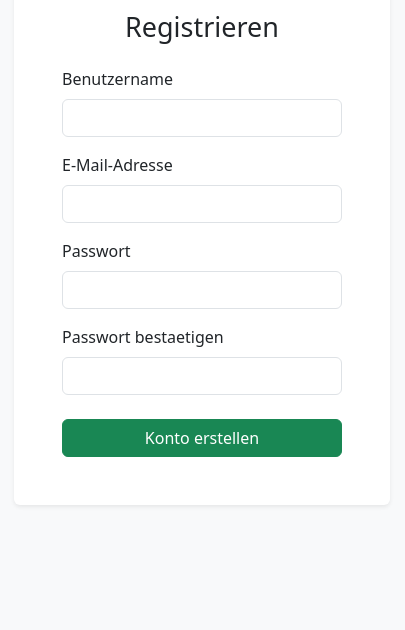
Test: SignupPage › shows a validation error when passwords differ
Type "demo" into the field labelled "Benutzername".
click(202, 118); type("demo")  # box [62,99,342,137]
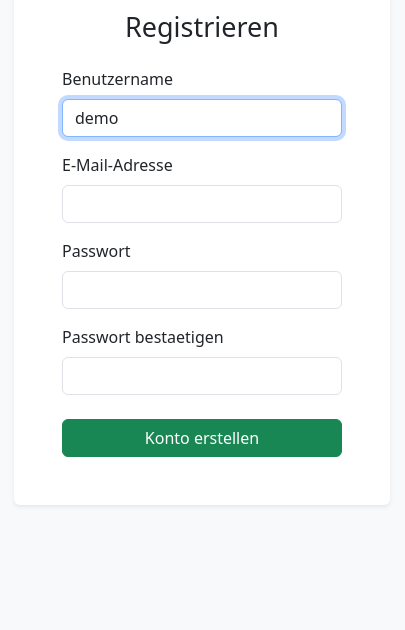
Type "demo@example.com" into the field labelled "E-Mail-Adresse".
click(202, 204); type("demo@example.com")  # box [62,185,342,223]
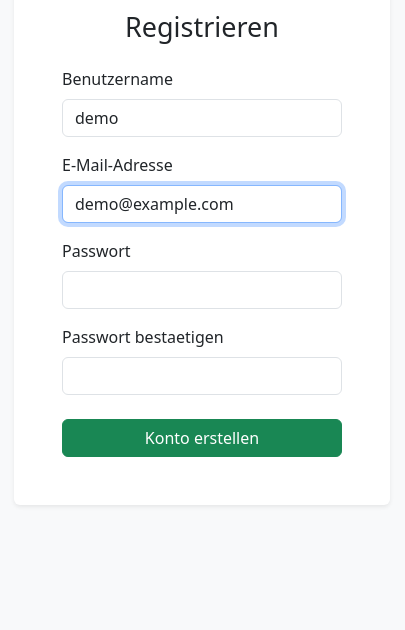
Type "password" into the password field labelled "Passwort".
click(202, 290); type("password")  # box [62,271,342,309]
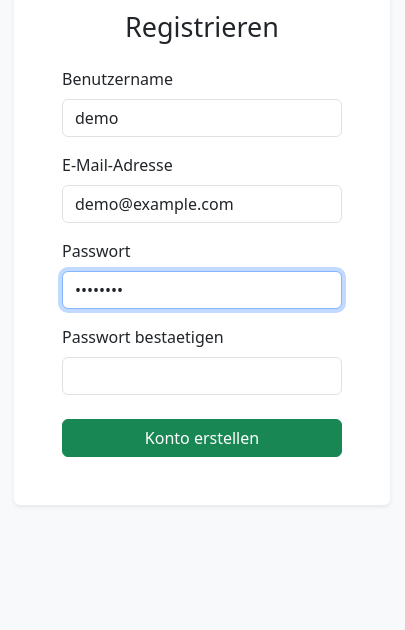
Type "other" into the password field labelled "Passwort bestaetigen".
click(202, 376); type("other")  # box [62,357,342,395]
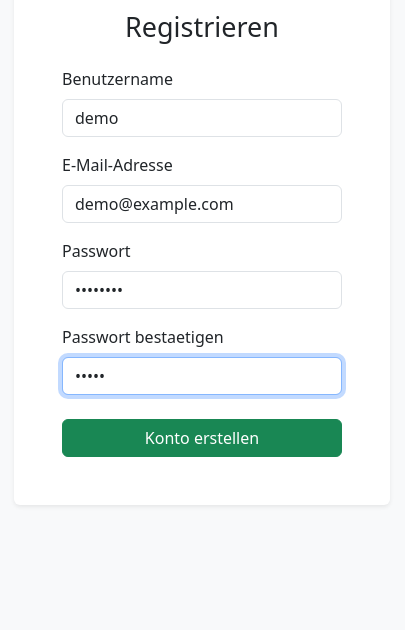
Click the button "Konto erstellen".
click(202, 438)  # box [62,419,342,457]
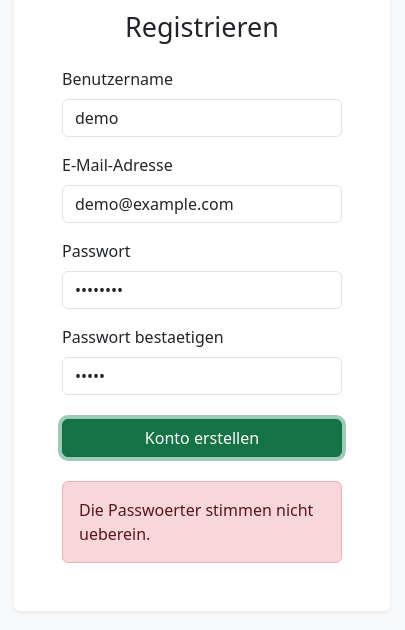
Expected: the message shows "Passwoerter stimmen nicht", [79,499,313,545]
